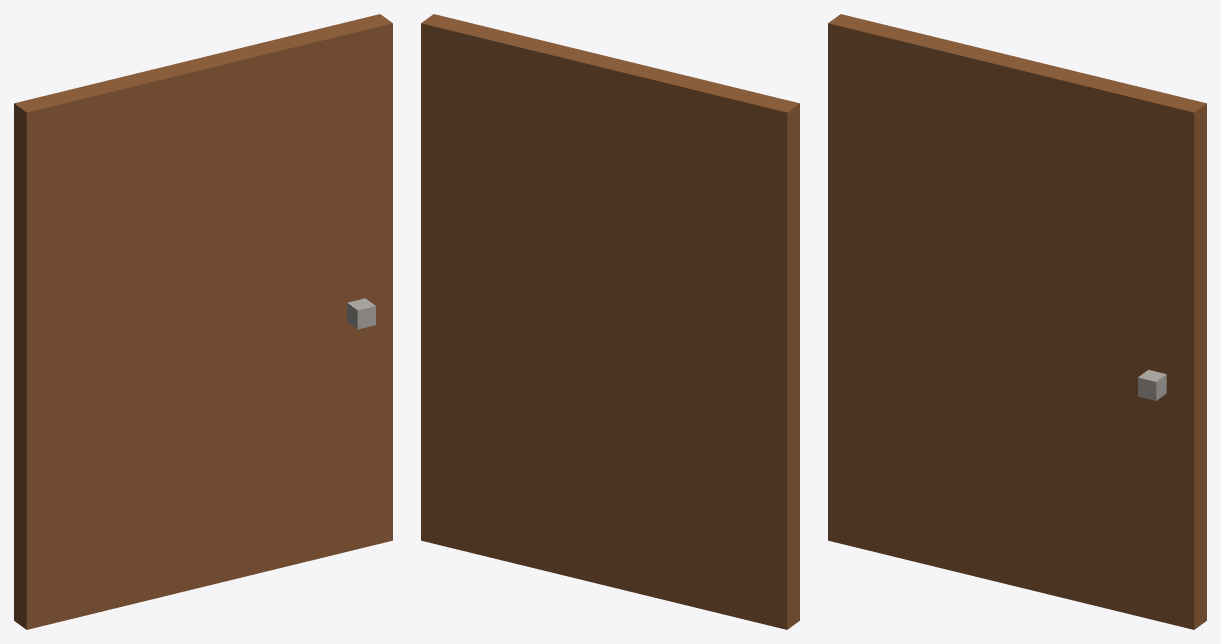
The model's file is door.obj.
3 views of the same model, side by side, from view 1: azimuth 30°, elevation 25°; view 2: azimuth 150°, elevation 25°; view 3: azimuth 330°, elevation 25° (orthographic).
Bounding box in the file's own units: 2 × 2.7 × 0.22.
